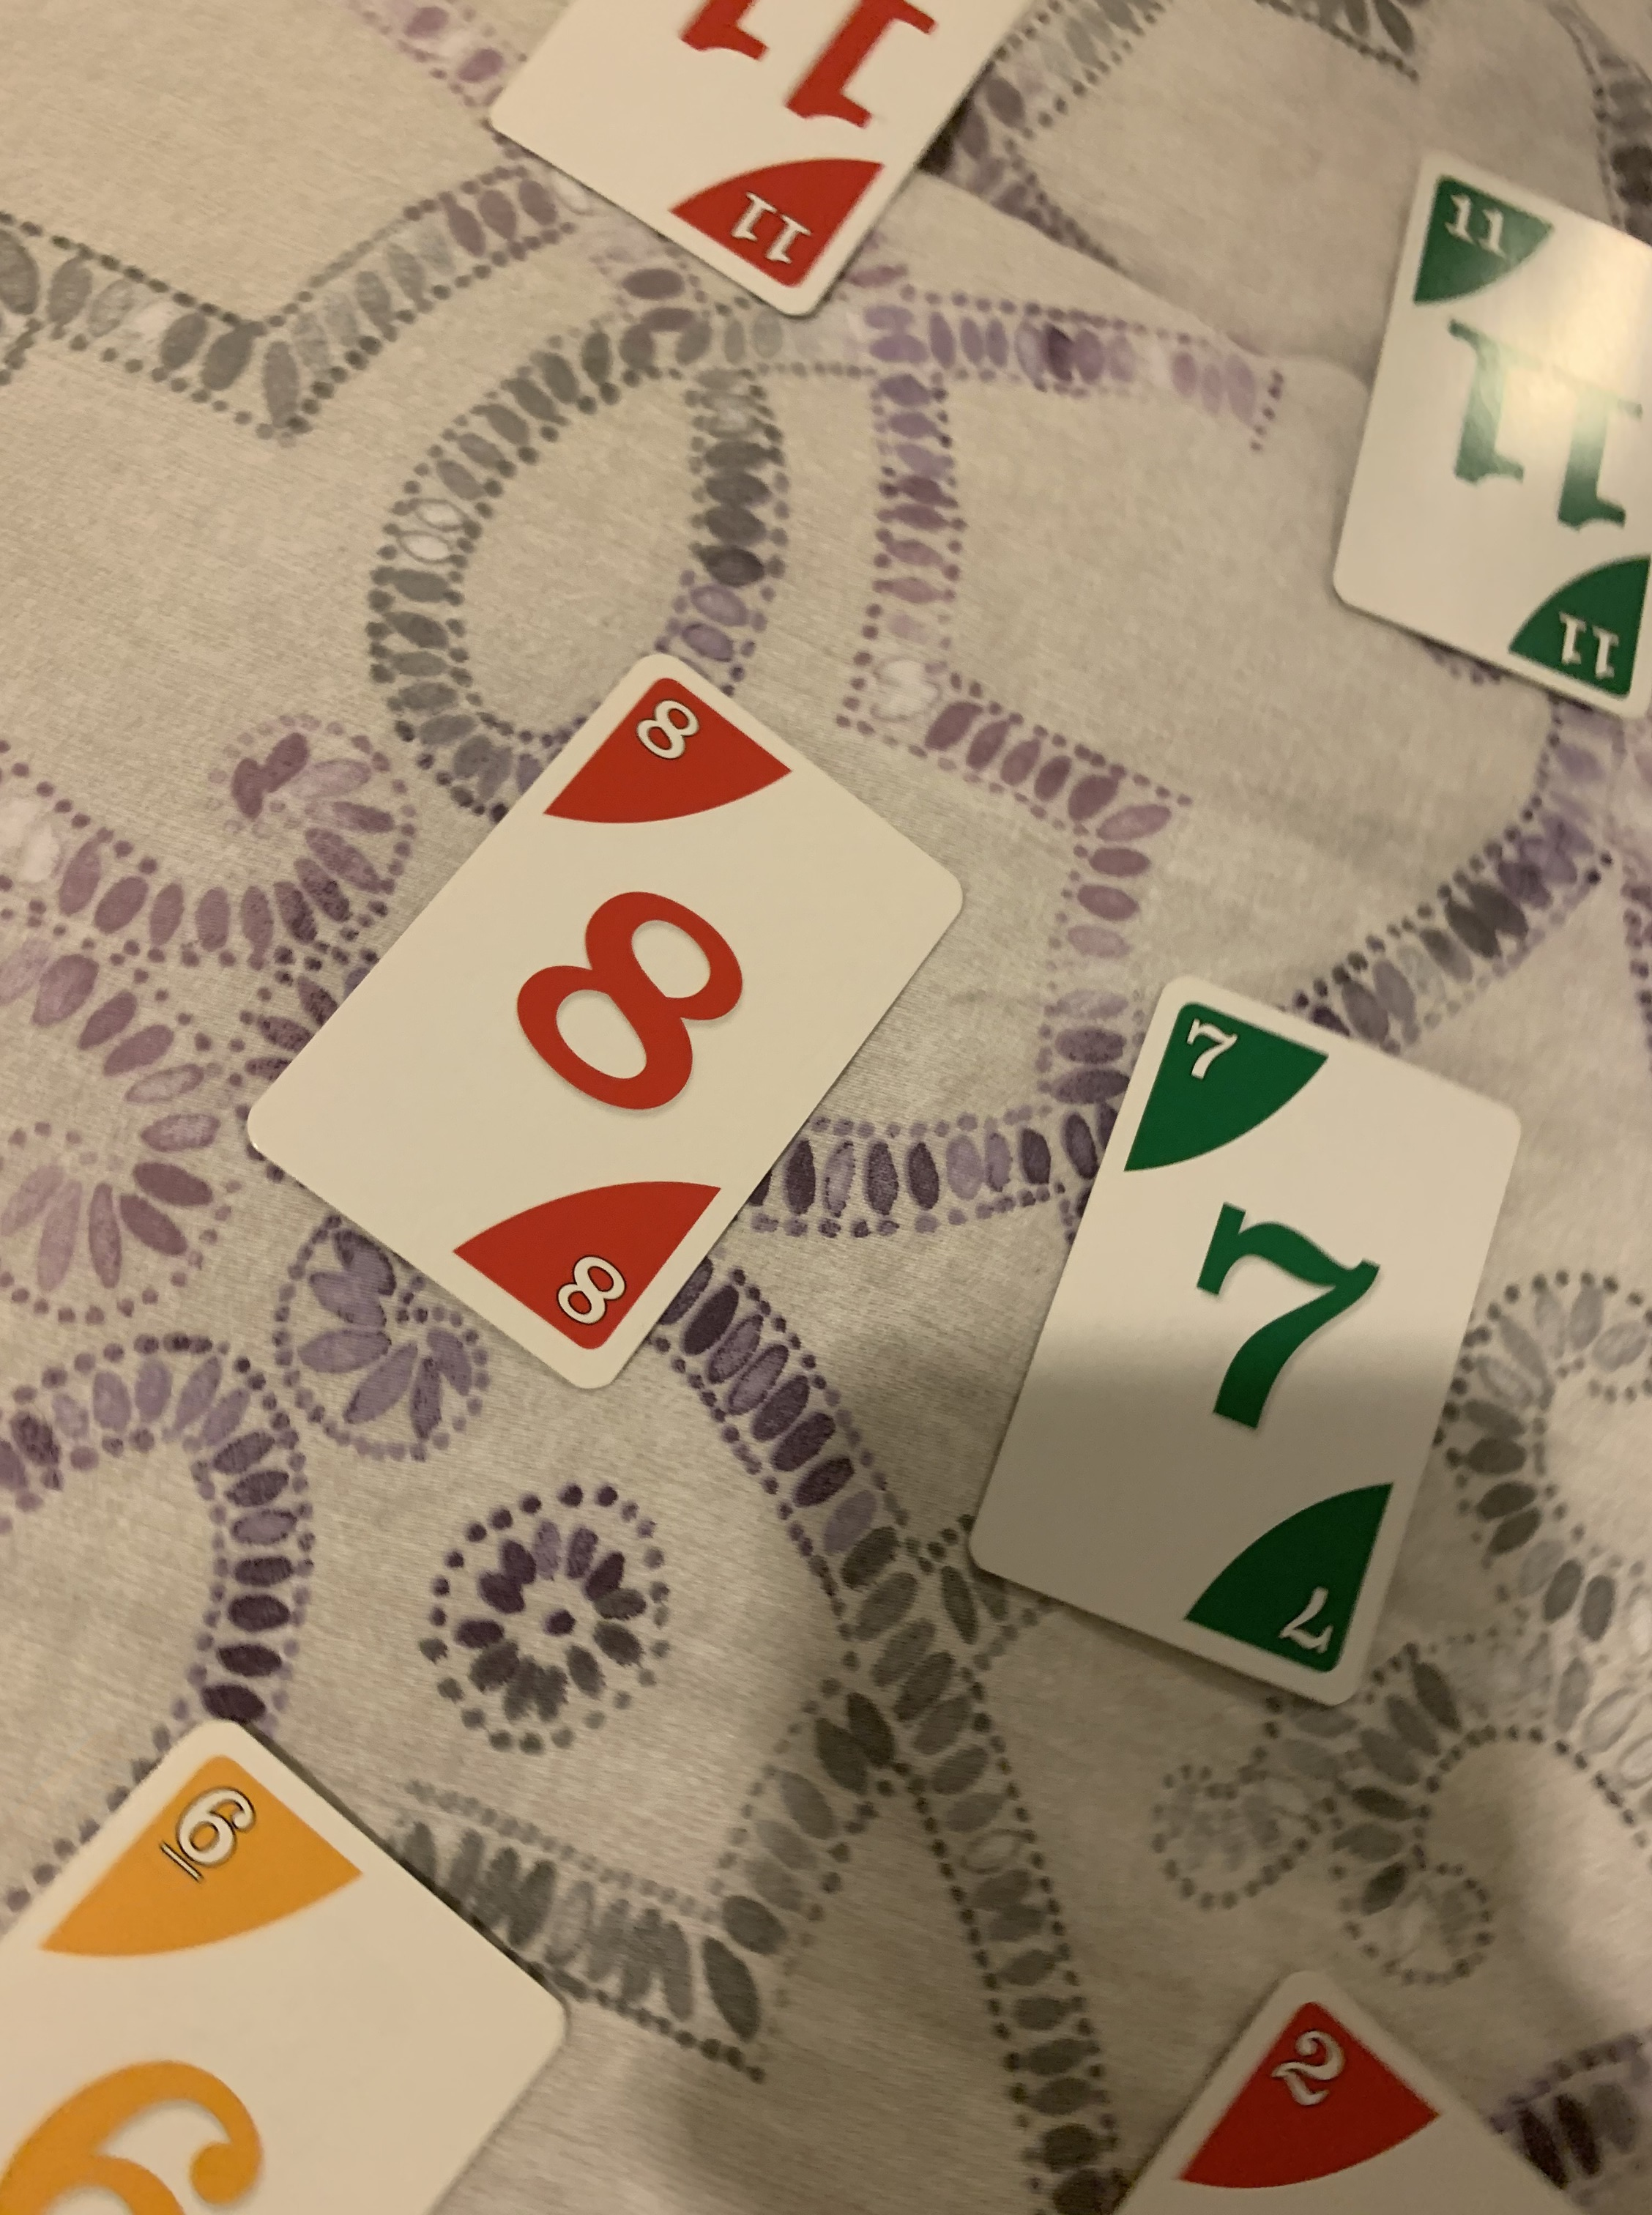eight: (226, 641, 973, 1397)
eleven: (1317, 153, 1647, 727)
seven: (965, 967, 1531, 1727)
